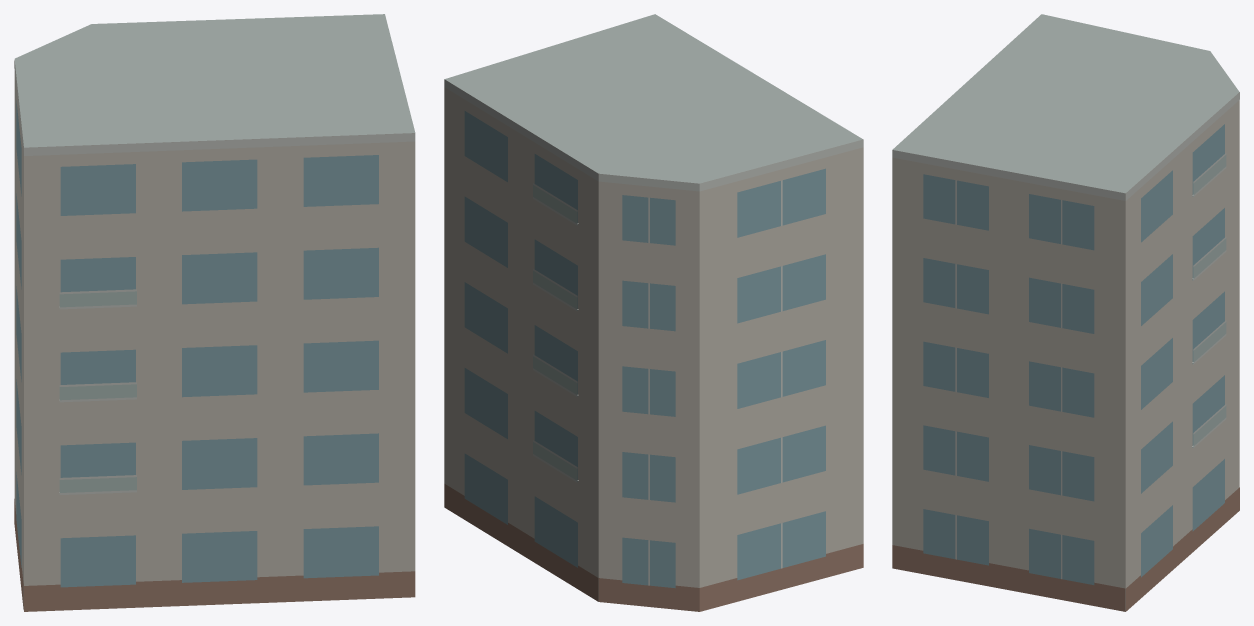
File: survey-upis-32733050.glb
3 views of the same model, side by side, from view 1: azimuth 30°, elevation 25°; view 2: azimuth 150°, elevation 25°; view 3: azimuth 270°, elevation 25° (orthographic). The views are drawn at different scales.
Visible parts, largest first — view 1: survey-upis-32733050.tmp; view 2: survey-upis-32733050.tmp; view 3: survey-upis-32733050.tmp.
Boxes of the visible parts, bbox=[...] form: survey-upis-32733050.tmp: bbox=[14, 14, 415, 611]; survey-upis-32733050.tmp: bbox=[444, 14, 863, 611]; survey-upis-32733050.tmp: bbox=[892, 14, 1239, 611].
Size of the model in its own units: 12.23 by 13.3 by 10.02.
